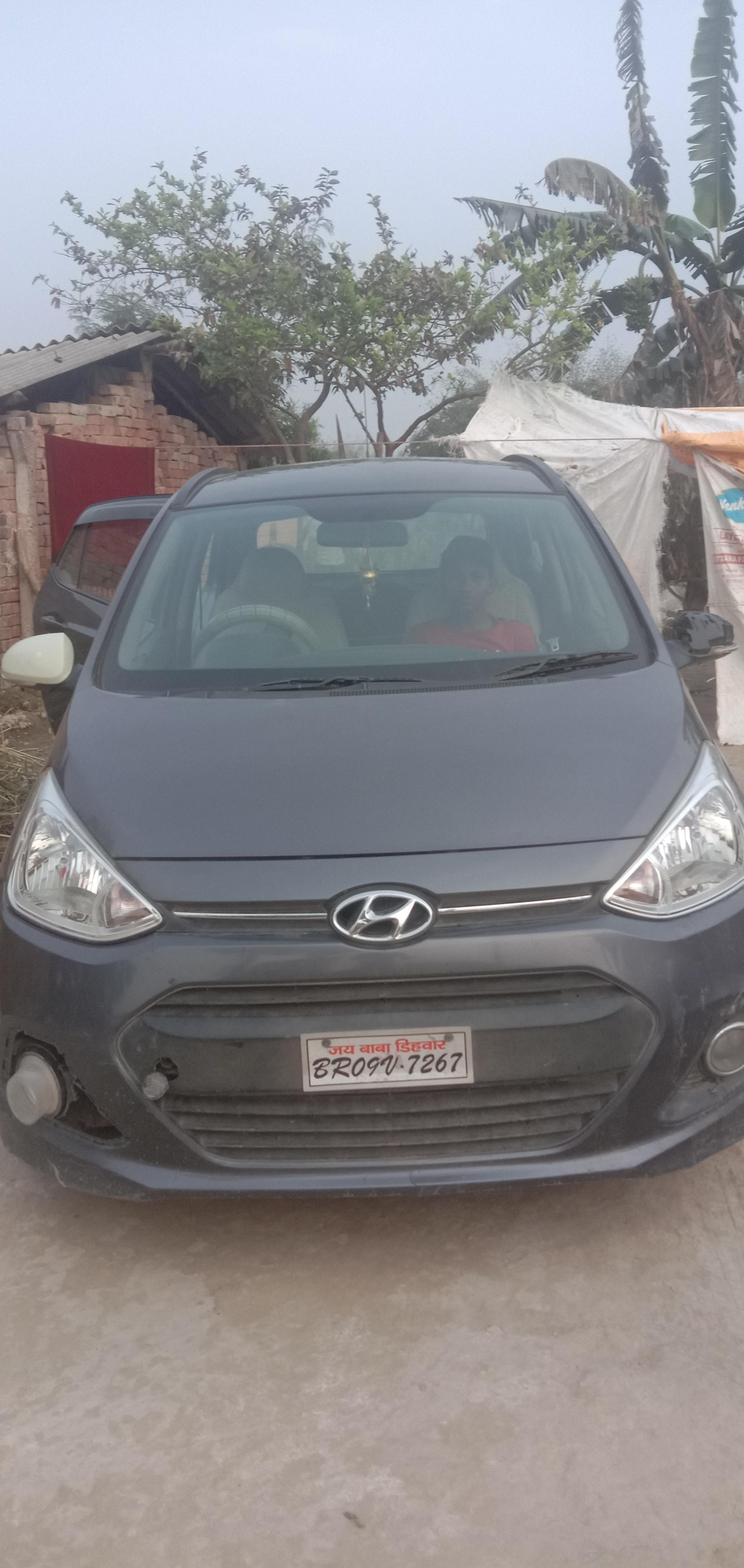number_platerotation: (293, 1024, 479, 1092)
